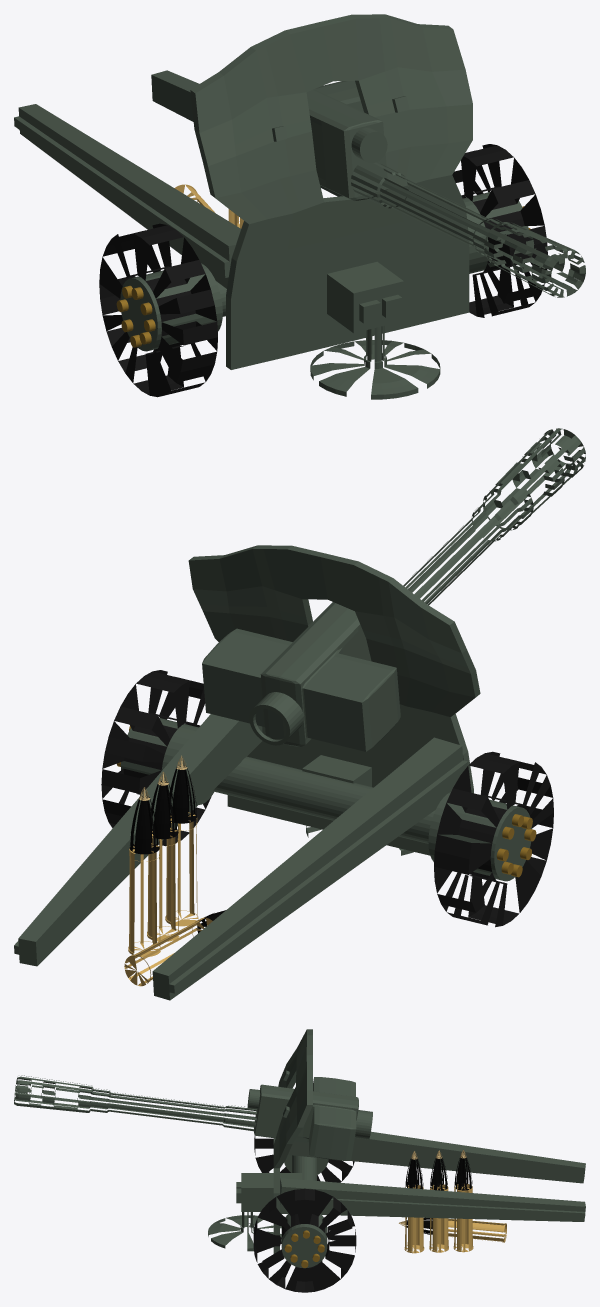
The model's file is Howitzer.glb.
The picture shows the model from 3 angles, top to bottom: view 1: azimuth 30°, elevation 25°; view 2: azimuth 150°, elevation 25°; view 3: azimuth 270°, elevation 25°; orthographic projection. The views are drawn at different scales.
Visible parts, largest first — view 1: Plane; view 2: Plane; view 3: Plane.
Boxes of the visible parts, x1,y1,x2,y2 form: Plane: (14, 14, 585, 399); Plane: (14, 428, 585, 1000); Plane: (14, 1029, 585, 1292).
Size of the model in its own units: 1.59 by 1.27 by 3.38.
